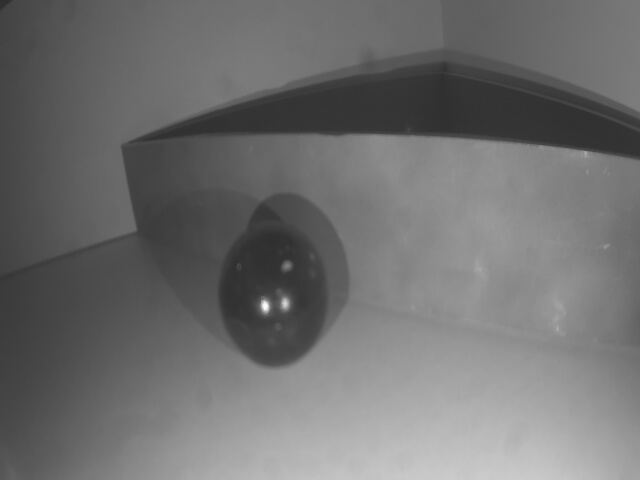Dead: (218, 226, 329, 368)
Green: (119, 143, 640, 349)
